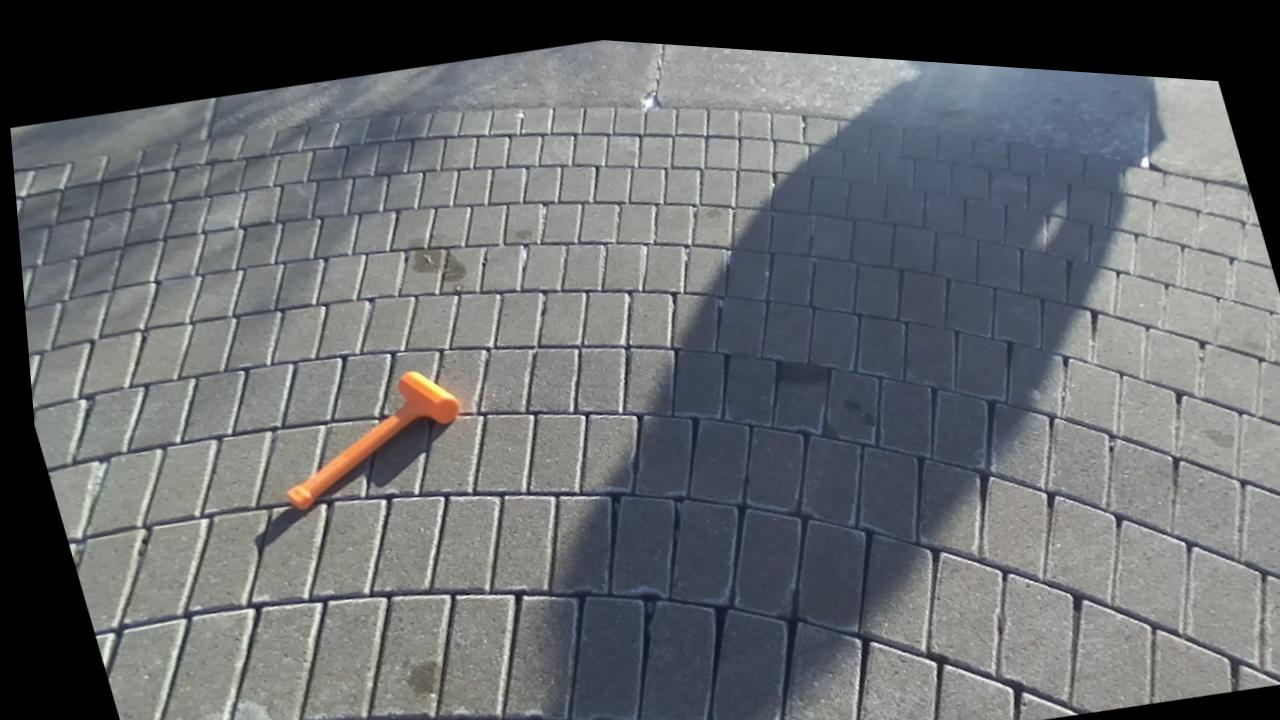mallet: (286, 373, 458, 509)
